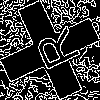R: (25, 25, 82, 77)
